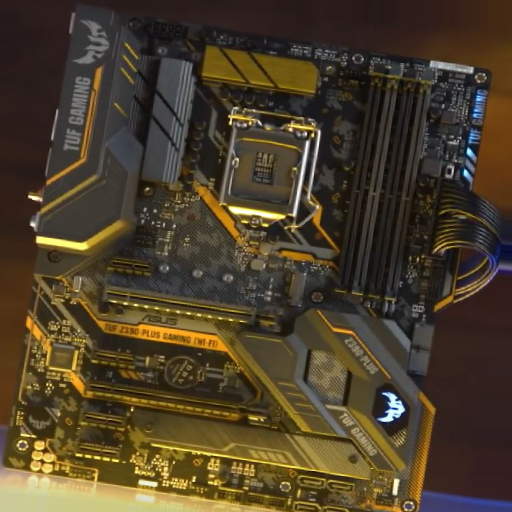CPU: (218, 108, 315, 231)
GPU: (84, 380, 277, 430), (101, 283, 284, 334)
MOTHERBOARD: (1, 10, 484, 511)
RAM: (334, 58, 435, 311)
SSD: (284, 268, 307, 310)
